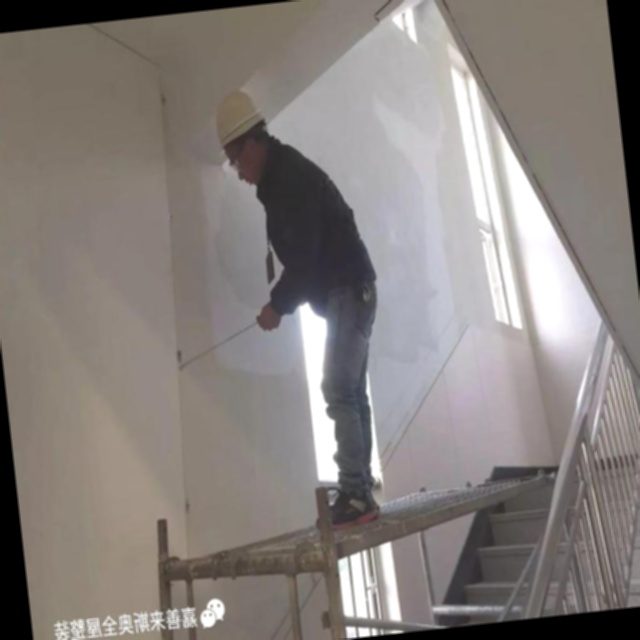goggles: (369, 128, 402, 171)
helmet: (343, 77, 409, 148)
